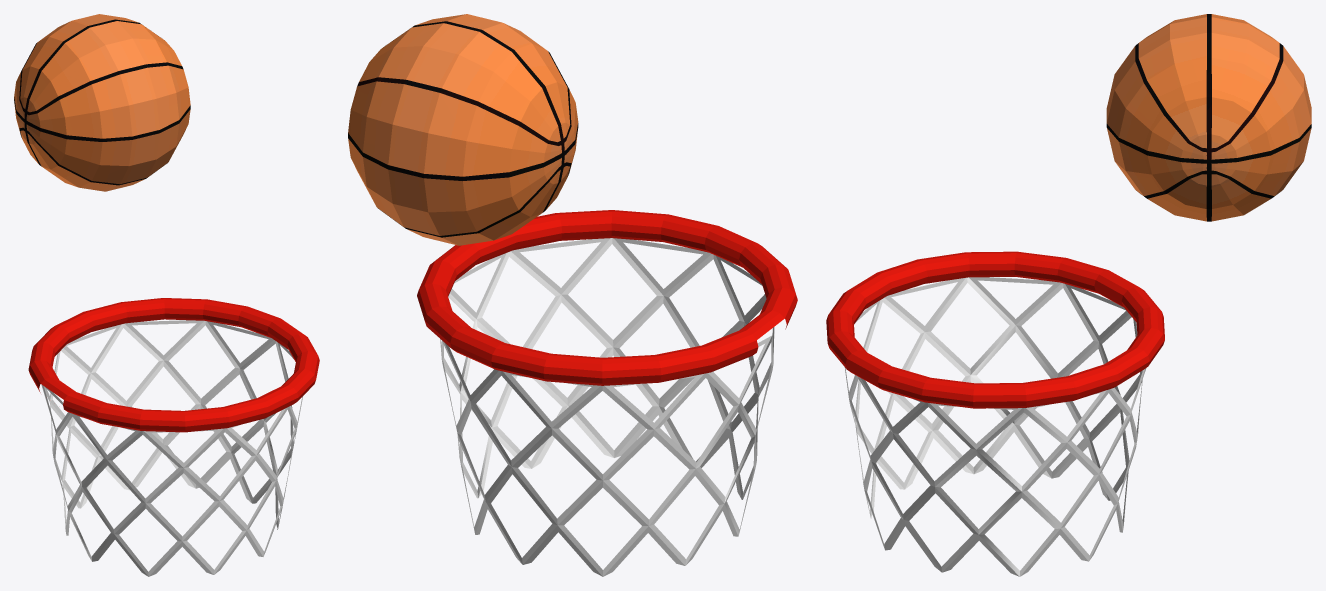
File: Basketball.glb
3 views of the same model, side by side, from view 1: azimuth 30°, elevation 25°; view 2: azimuth 150°, elevation 25°; view 3: azimuth 270°, elevation 25° (orthographic). The views are drawn at different scales.
Parts seen in each view (by area): view 1: ball, net, hoop; view 2: ball, net, hoop; view 3: ball, net, hoop.
Boxes of the visible parts, x1,y1,x2,y2 form: ball: [14, 14, 190, 191]; net: [41, 320, 302, 576]; hoop: [28, 298, 319, 432]; ball: [348, 14, 578, 245]; net: [440, 238, 774, 576]; hoop: [417, 210, 797, 385]; ball: [1106, 14, 1311, 221]; net: [844, 277, 1146, 576]; hoop: [826, 251, 1164, 408].
Bounding box in the file's own units: 1.81 × 3.01 × 2.58.
Materials: 3 (1 with a texture image).
